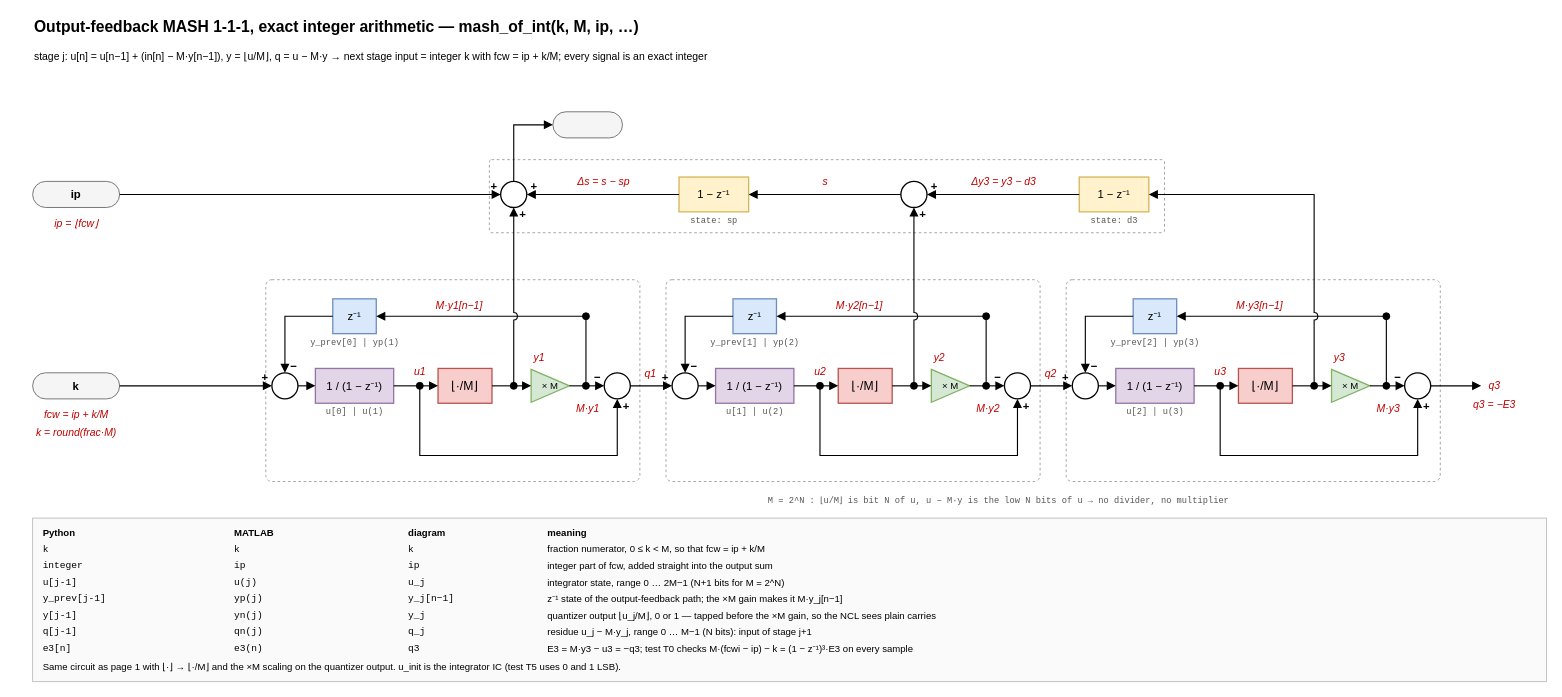
The diagram is 1562 pixels wide and 697 high, and some of its shapes have lost their labels. Each missing label, with the box of its shape:
fcwi: (552, 111, 622, 138)
noise-cancellation network: (489, 159, 1164, 233)
stage 1: (265, 279, 640, 482)
stage 2: (665, 279, 1040, 482)
stage 3: (1065, 279, 1440, 482)
